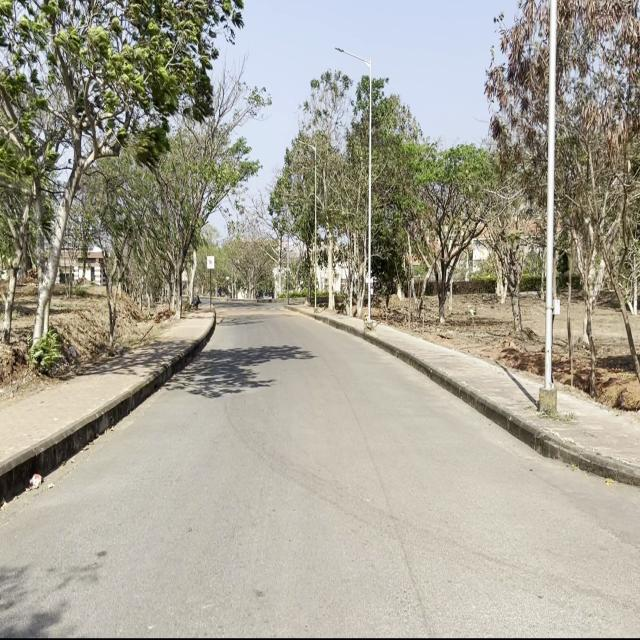Road: (3, 303, 637, 637)
